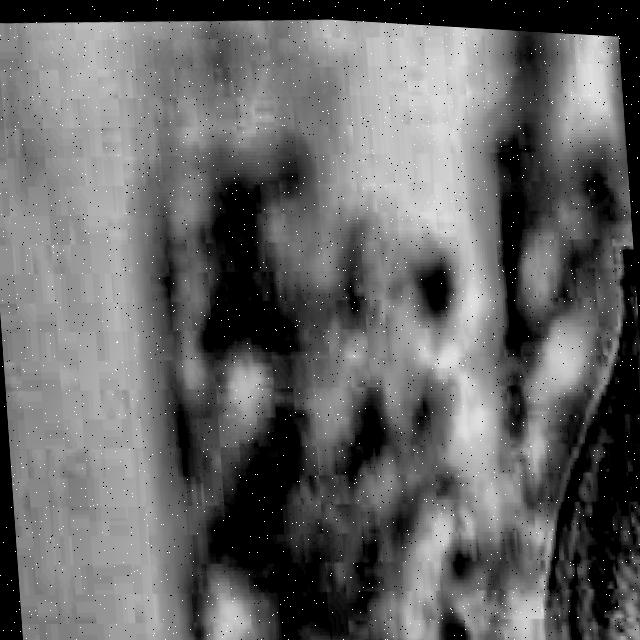dog: (449, 27, 640, 640)
